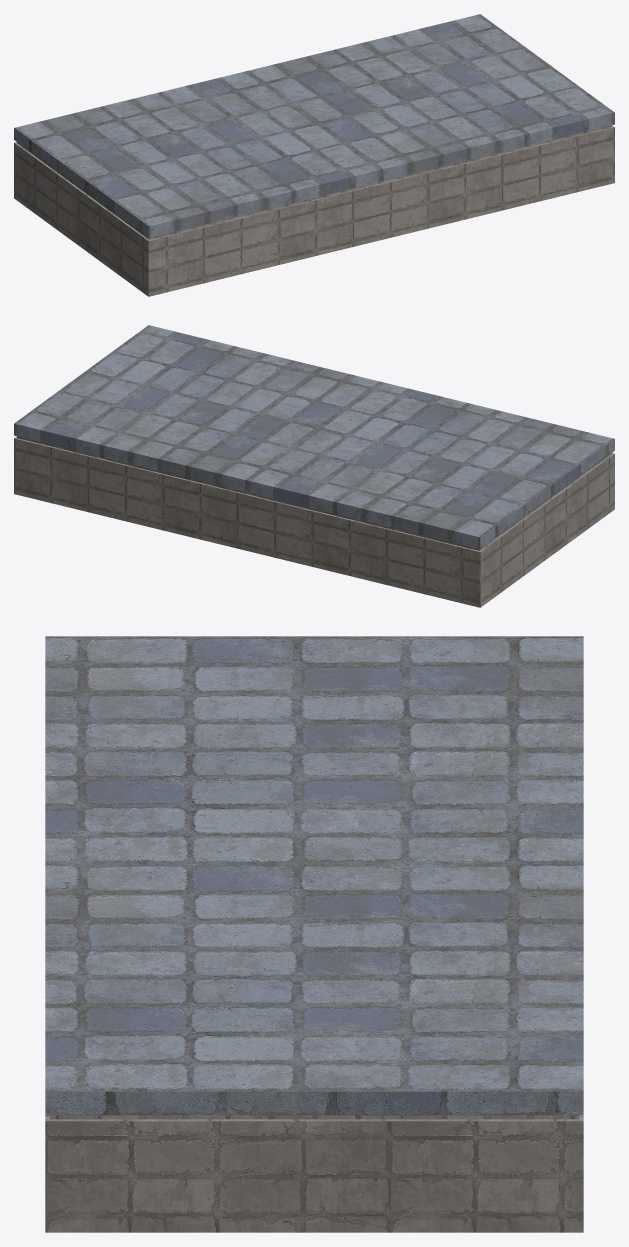
The model's file is SewerSet3_12mV1.fbx.
3 views of the same model, one above another, from view 1: azimuth 30°, elevation 25°; view 2: azimuth 150°, elevation 25°; view 3: azimuth 270°, elevation 25° (orthographic). The views are drawn at different scales.
Visible parts, largest first — view 1: Box091; view 2: Box091; view 3: Box091.
Part boxes in pixels (x1=…): Box091: x1=14, y1=14, x2=614, y2=296; Box091: x1=14, y1=325, x2=614, y2=607; Box091: x1=45, y1=636, x2=583, y2=1232.
Size of the model in its own units: 2500 by 361 by 1250.
